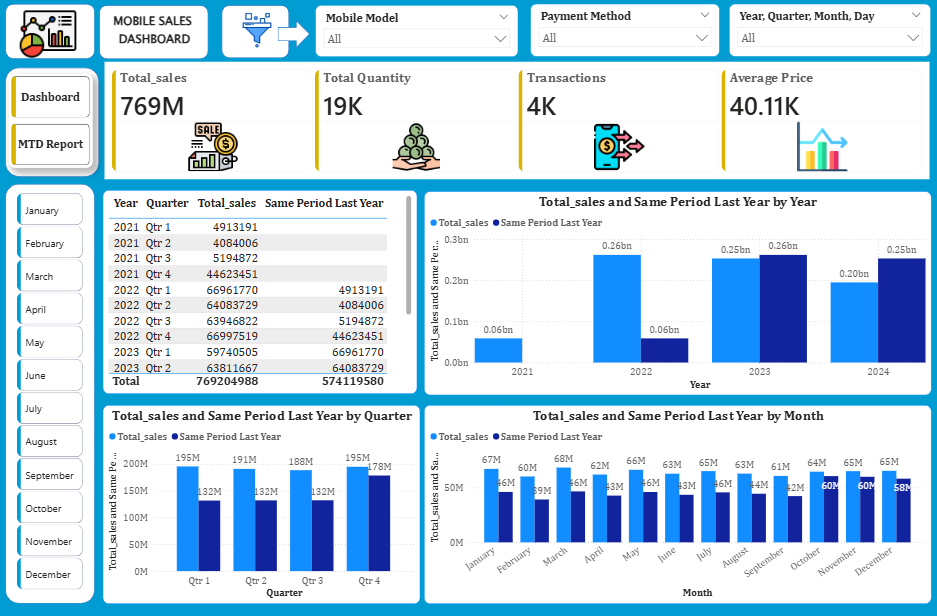

This screenshot's page, from the dashboard's own definition file:
{"tool":"powerbi","page":{"name":"Same Period Last Year ","canvas":[1500,1000],"ordinal":2},"visuals":[{"type":"shape","box":[10,13.3,143.3,88.3],"z":0},{"type":"shape","box":[10,115,150,175],"z":1000},{"type":"cardVisual","fields":{"Data":["Sales_data.Total_sales","Sales_data.Total Quantity","Sales_data.Transactions","Sales_data.Average Price"]},"box":[160,98.3,1340,206.7],"z":2000},{"type":"slicer","fields":{"Values":["Sales_data.Mobile Model"]},"box":[505,15,325,83.3],"z":3000},{"type":"slicer","fields":{"Values":["Sales_data.Payment Method"]},"box":[850,13.3,303.3,85],"z":4000},{"type":"slicer","fields":{"Values":["Custom_Calendar.Date.Variation.Date Hierarchy.Year","Custom_Calendar.Date.Variation.Date Hierarchy.Quarter","Custom_Calendar.Date.Variation.Date Hierarchy.Month","Custom_Calendar.Date.Variation.Date Hierarchy.Day"]},"box":[1168.3,13.3,323.3,85],"z":5000},{"type":"shape","box":[356.7,15,108.3,85],"z":6000},{"type":"image","box":[358.3,28.3,110,56.7],"z":7000},{"type":"shape","box":[445,40,51.7,45],"z":8000},{"type":"shape","box":[160,15,175,86.7],"z":9000},{"type":"textbox","box":[171.7,21.7,153.3,76.7],"z":10000},{"type":"shape","box":[10,301.7,143.3,671.7],"z":11000},{"type":"advancedSlicerVisual","fields":{"Values":["Custom_Calendar.Date.Variation.Date Hierarchy.Month"]},"box":[23.3,311.7,115,655],"z":12000},{"type":"tableEx","fields":{"Values":["Custom_Calendar.Date.Variation.Date Hierarchy.Year","Custom_Calendar.Date.Variation.Date Hierarchy.Quarter","Sales_data.Total_sales","Sales_data.Same Period Last Year"]},"box":[165,311.7,503.3,326.7],"z":13000},{"type":"clusteredColumnChart","fields":{"Category":["Custom_Calendar.Date.Variation.Date Hierarchy.Year","Custom_Calendar.Date.Variation.Date Hierarchy.Quarter"],"Y":["Sales_data.Total_sales","Sales_data.Same Period Last Year"]},"box":[680,313.3,811.7,326.7],"z":14000},{"type":"clusteredColumnChart","fields":{"Y":["Sales_data.Total_sales","Sales_data.Same Period Last Year"],"Category":["Custom_Calendar.Date.Variation.Date Hierarchy.Year","Custom_Calendar.Date.Variation.Date Hierarchy.Quarter","Custom_Calendar.Date.Variation.Date Hierarchy.Month","Custom_Calendar.Date.Variation.Date Hierarchy.Day"]},"box":[680,655,811.7,318.3],"z":15000},{"type":"clusteredColumnChart","fields":{"Category":["Custom_Calendar.Date.Variation.Date Hierarchy.Year","Custom_Calendar.Date.Variation.Date Hierarchy.Quarter"],"Y":["Sales_data.Total_sales","Sales_data.Same Period Last Year"]},"box":[165,655,508.3,318.3],"z":16000},{"type":"pageNavigator","box":[16.7,126.7,133.3,150],"z":17000},{"type":"image","box":[5,13.3,145,96.7],"z":18000}]}

Visuals, with their boxes in screenshot pixels (x1, y1, x2, y2), scaled from the page's 1500x1000 canvas onto the 937x616 screenshot:
shape: [x1=6, y1=8, x2=96, y2=63]
shape: [x1=6, y1=71, x2=100, y2=179]
cardVisual - Sales_data.Total_sales x Sales_data.Total Quantity: [x1=100, y1=61, x2=936, y2=188]
slicer - Sales_data.Mobile Model: [x1=315, y1=9, x2=518, y2=61]
slicer - Sales_data.Payment Method: [x1=531, y1=8, x2=720, y2=61]
slicer - Custom_Calendar.Date.Variation.Date Hierarchy.Year x Custom_Calendar.Date.Variation.Date Hierarchy.Quarter: [x1=730, y1=8, x2=932, y2=61]
shape: [x1=223, y1=9, x2=290, y2=62]
image: [x1=224, y1=17, x2=293, y2=52]
shape: [x1=278, y1=25, x2=310, y2=52]
shape: [x1=100, y1=9, x2=209, y2=63]
textbox: [x1=107, y1=13, x2=203, y2=61]
shape: [x1=6, y1=186, x2=96, y2=600]
advancedSlicerVisual - Custom_Calendar.Date.Variation.Date Hierarchy.Month: [x1=15, y1=192, x2=86, y2=595]
tableEx - Custom_Calendar.Date.Variation.Date Hierarchy.Year x Custom_Calendar.Date.Variation.Date Hierarchy.Quarter: [x1=103, y1=192, x2=417, y2=393]
clusteredColumnChart - Custom_Calendar.Date.Variation.Date Hierarchy.Year x Custom_Calendar.Date.Variation.Date Hierarchy.Quarter: [x1=425, y1=193, x2=932, y2=394]
clusteredColumnChart - Sales_data.Total_sales x Sales_data.Same Period Last Year: [x1=425, y1=403, x2=932, y2=600]
clusteredColumnChart - Custom_Calendar.Date.Variation.Date Hierarchy.Year x Custom_Calendar.Date.Variation.Date Hierarchy.Quarter: [x1=103, y1=403, x2=421, y2=600]
pageNavigator: [x1=10, y1=78, x2=94, y2=170]
image: [x1=3, y1=8, x2=94, y2=68]
